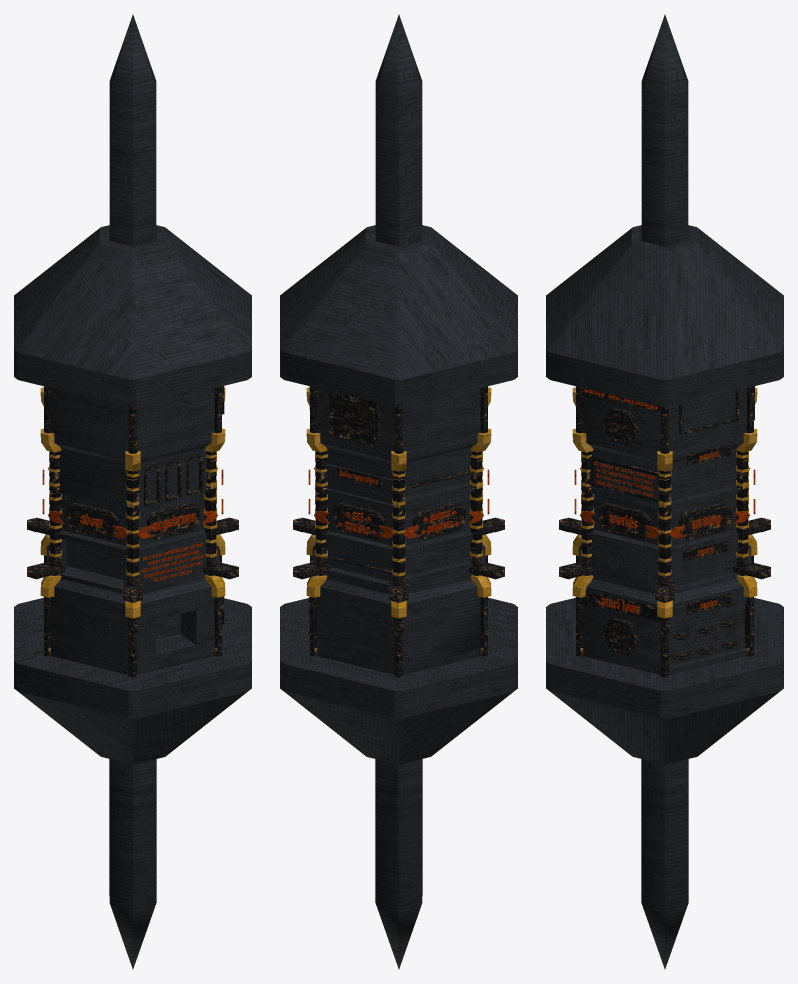
Rendered from HexCoreFallback1024.glb.
The picture shows the model from 3 angles, left to right: view 1: azimuth 30°, elevation 25°; view 2: azimuth 150°, elevation 25°; view 3: azimuth 270°, elevation 25°; orthographic projection.
Visible parts, largest first — view 1: HexCoreFallback; view 2: HexCoreFallback; view 3: HexCoreFallback.
Boxes of the visible parts, <box> form: HexCoreFallback: <box>14,14,251,969</box>; HexCoreFallback: <box>280,14,517,969</box>; HexCoreFallback: <box>546,14,783,969</box>.
Size of the model in its own units: 2.71 by 10.58 by 2.39.
Materials: 1 (1 with a texture image).
